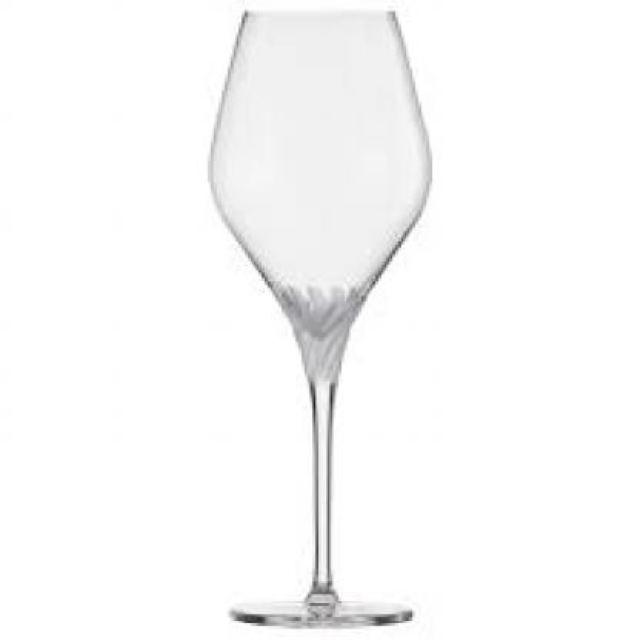kaca: (205, 3, 429, 623)
